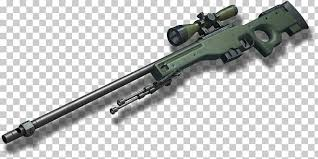gun: (1, 1, 308, 149)
